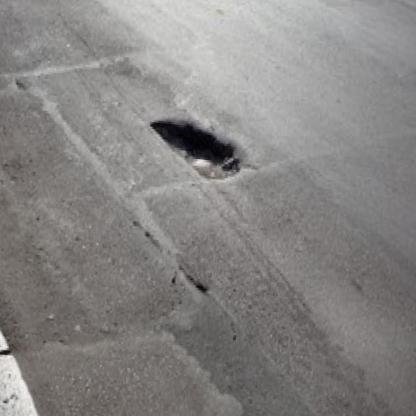pothole: (143, 115, 252, 185)
